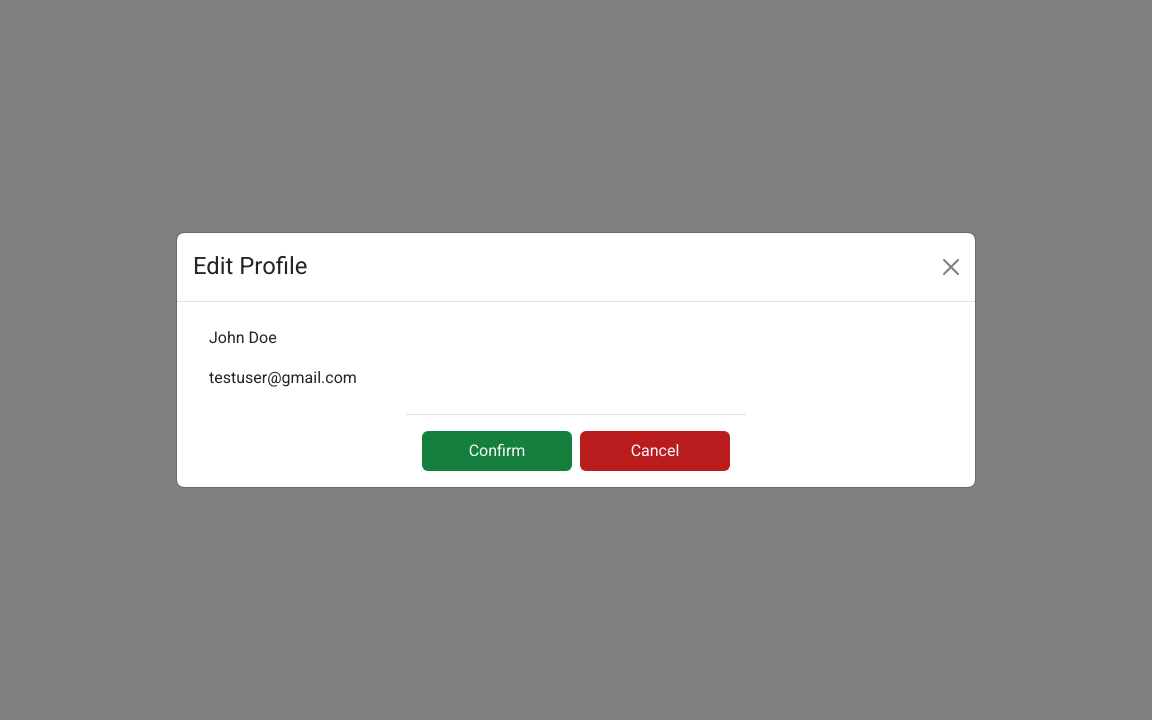
Test case: Edit Account Unit Test › should check all edit profile validations
Expected: the text "Edit Profile" is shown, [193,249,307,285]
Expected: the field with test id "name" holds "John Doe", [193,318,959,358]
Type "lukemacdonaldgmail.com" into the field with test id "email". click: (576, 378)
box: [193,358,959,398]
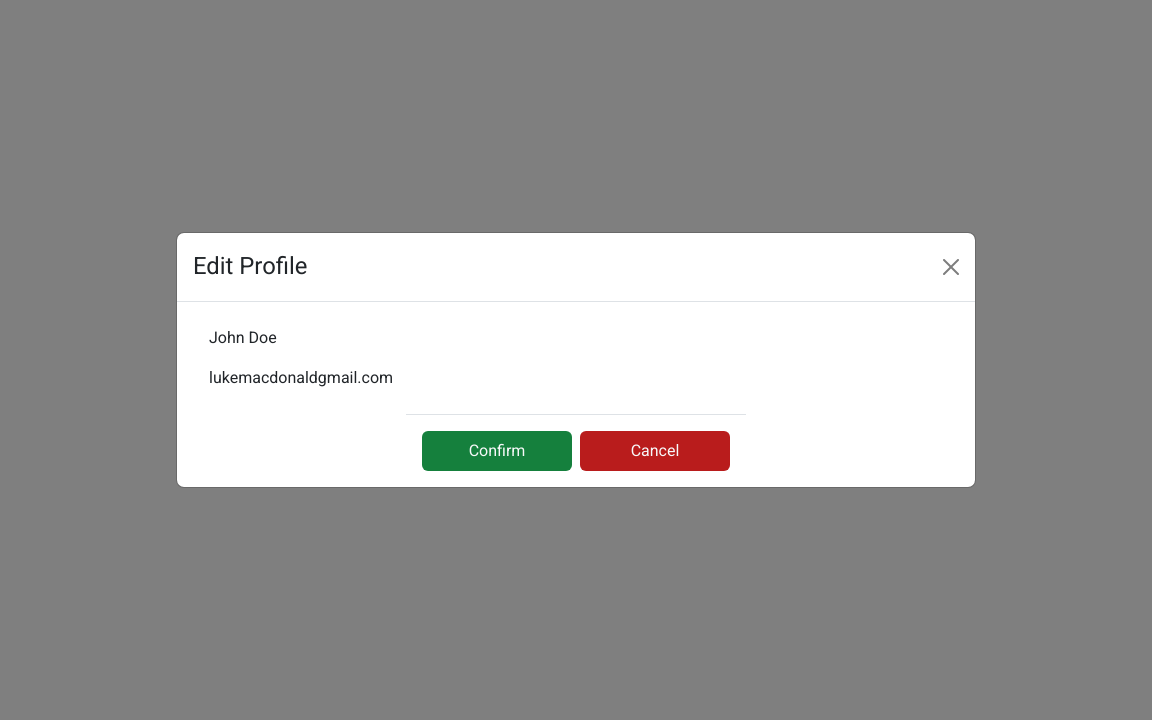
Click the button "Confirm". click: click(497, 451)
box: [422,431,572,471]
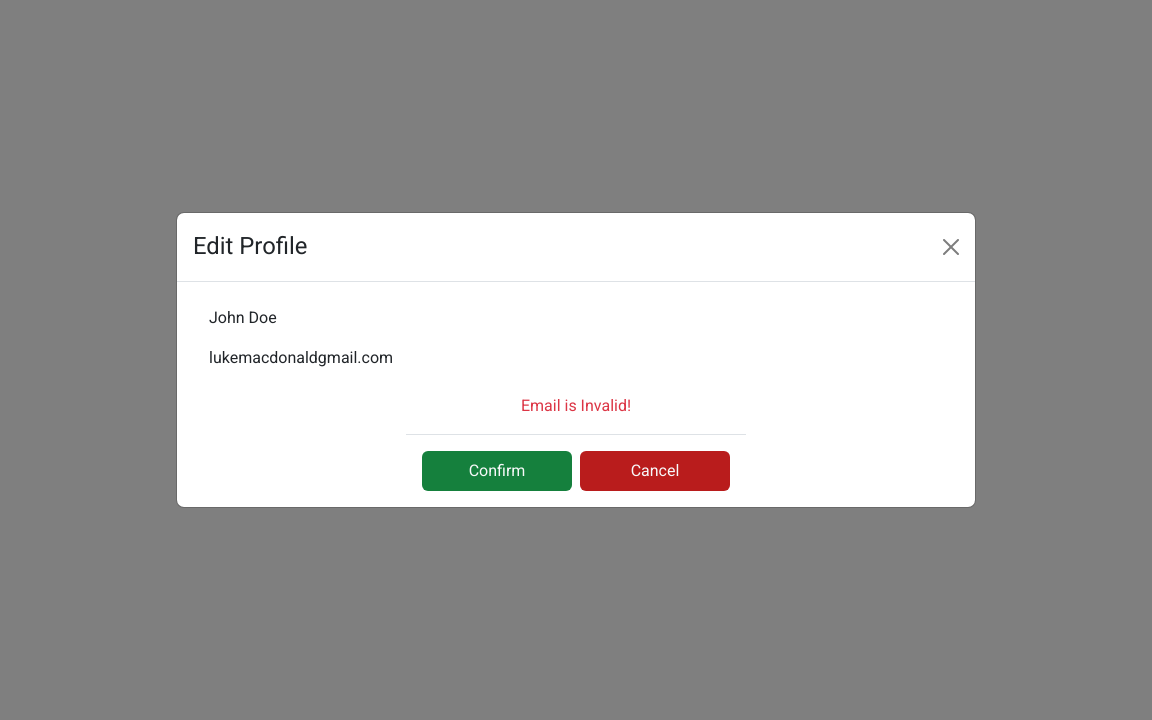
Expected: the text "Email is Invalid!" is shown, [521,396,631,415]
Replace the text in the field with test id "email" with "lukemacdonald@gmail.com". click: (576, 358)
box: [193,338,959,378]
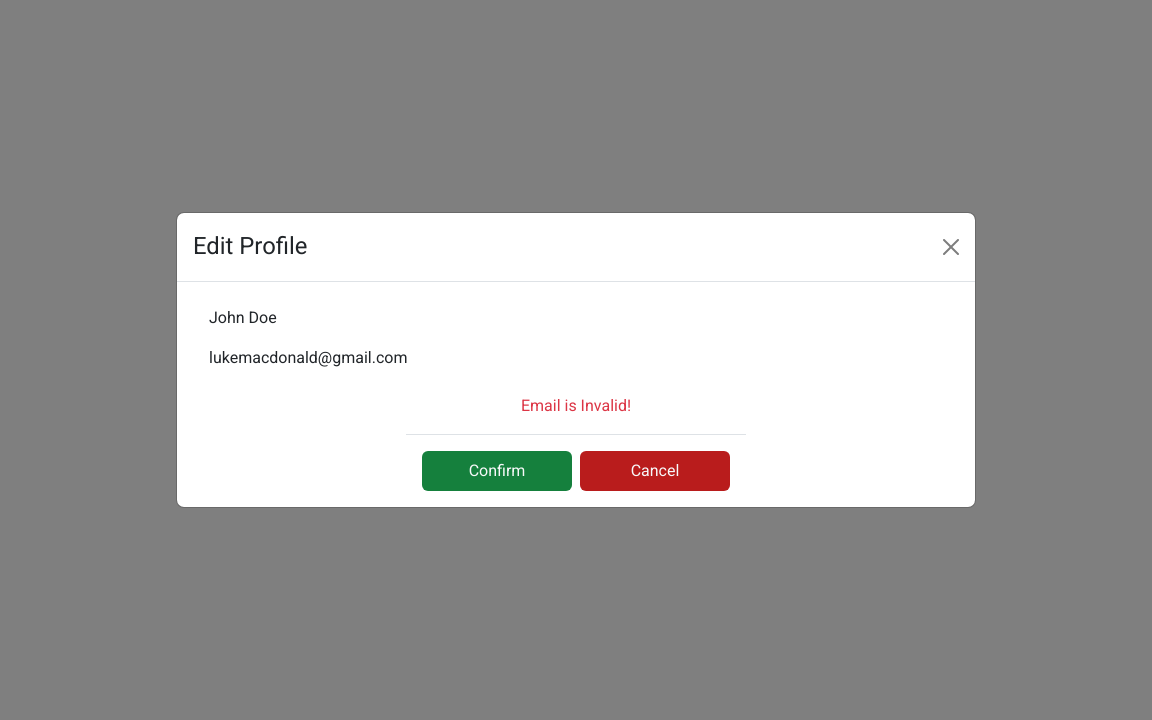
Clear the field with test id "name". click: (576, 318)
box: [193,298,959,338]
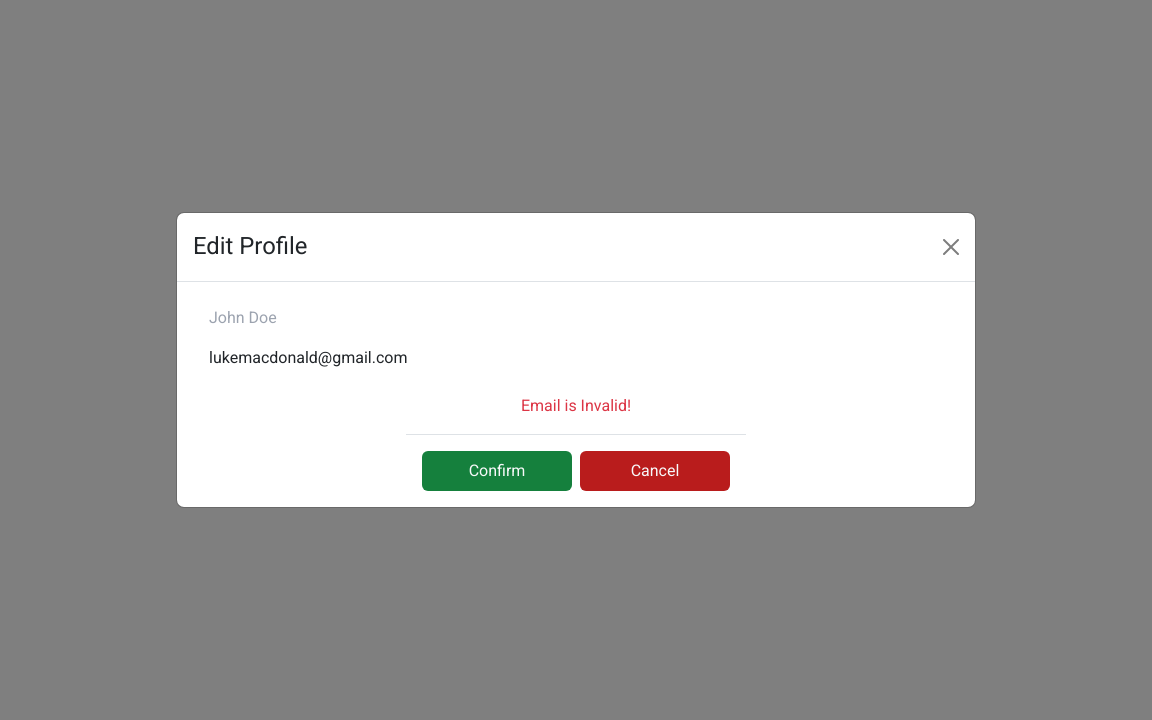
Click the button "Confirm". click: click(497, 471)
box: [422,451,572,491]
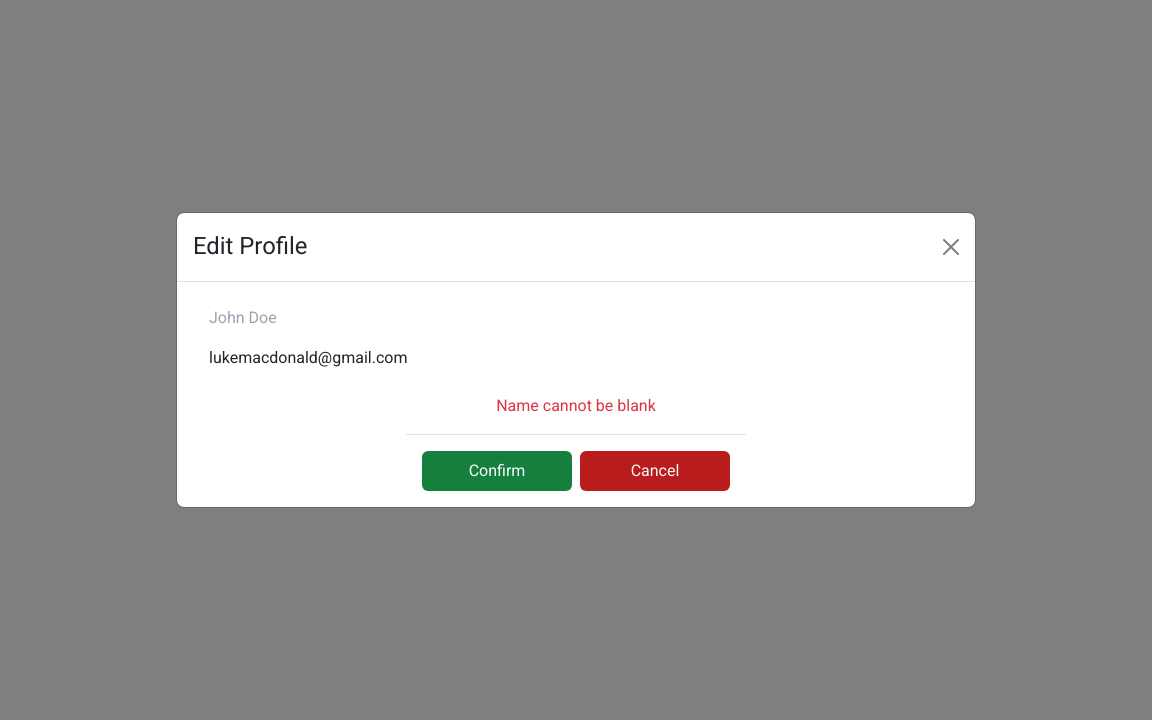
Expected: the text "Name cannot be blank" is shown, [496,396,656,415]
